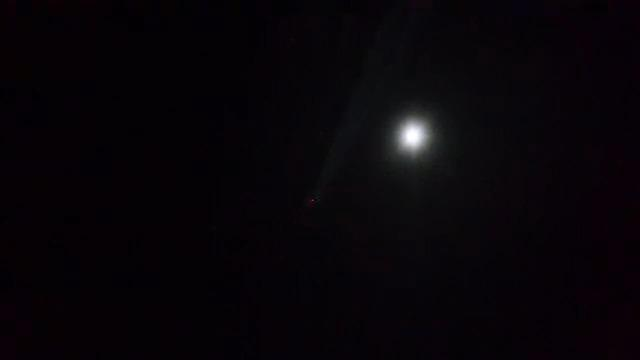Plane: (305, 139, 349, 205)
